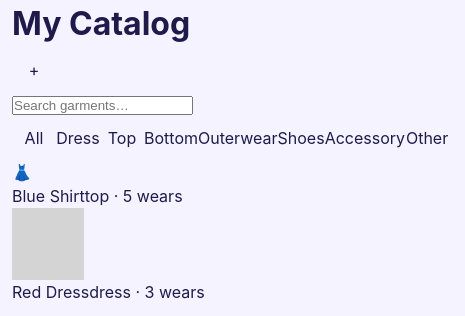
Test: Catalog › shows "No matches found" when category filter produces no results
expect the text "Blue Shirt" is shown: met, box [12, 186, 85, 206]
// Click "Bottom" — neither garment is a bottom
Click the button "Bottom": (171, 138) [144, 116, 198, 160]
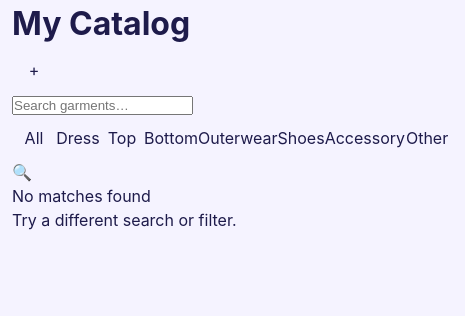
expect the text "No matches found" is shown: met, box [12, 186, 151, 206]
